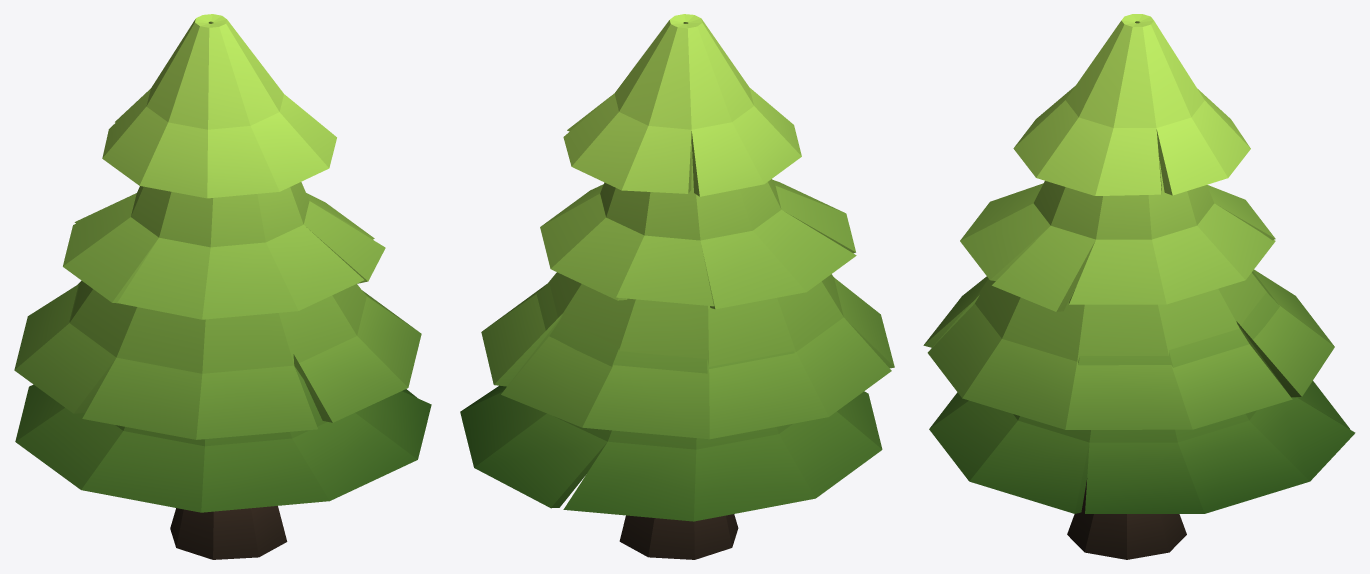
File: tree.obj
3 renders of one model, left to right at view 1: azimuth 30°, elevation 25°; view 2: azimuth 150°, elevation 25°; view 3: azimuth 270°, elevation 25°, orthographic. The views are drawn at different scales.
Visible parts, largest first — view 1: Cylinder; view 2: Cylinder; view 3: Cylinder.
Part boxes in pixels (bbox=[...]): Cylinder: bbox=[14, 14, 431, 559]; Cylinder: bbox=[460, 14, 894, 559]; Cylinder: bbox=[923, 14, 1355, 559].
Size of the model in its own units: 6.83 by 9.34 by 7.2.
